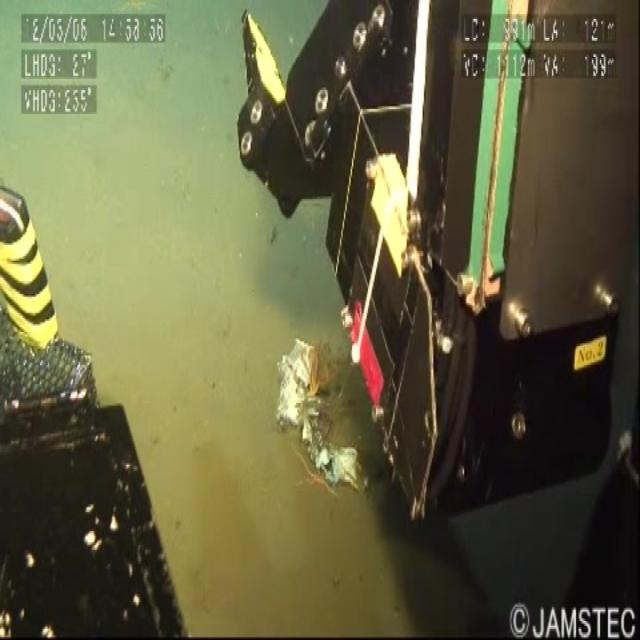Litter: (268, 337, 364, 515)
